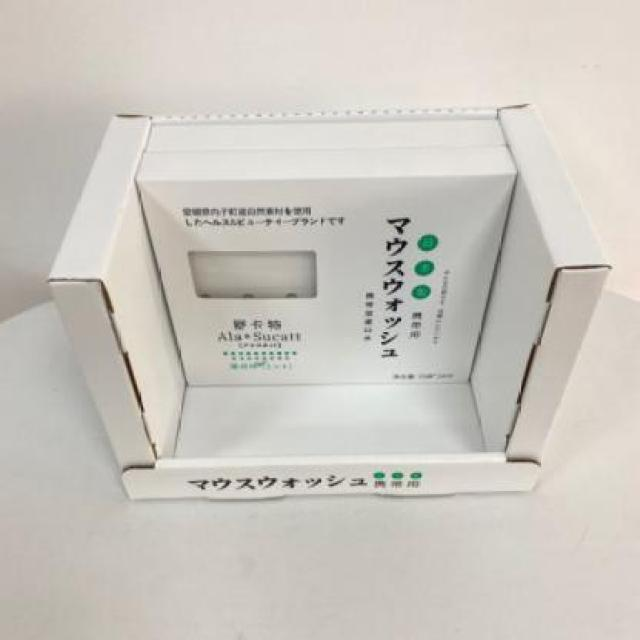box: (44, 81, 616, 512)
